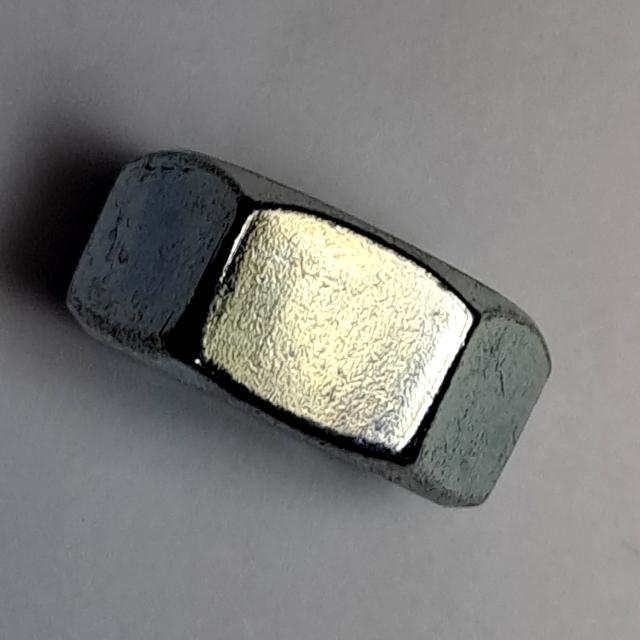Side_Excellent: (57, 138, 564, 522)
